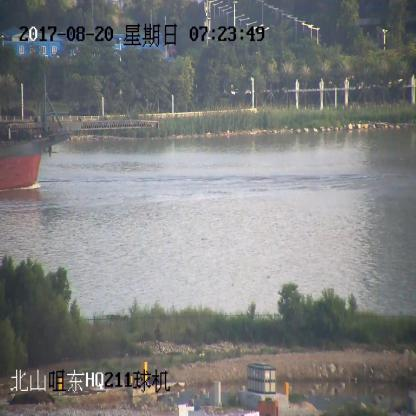Bulk Carrier: (0, 77, 158, 190)
